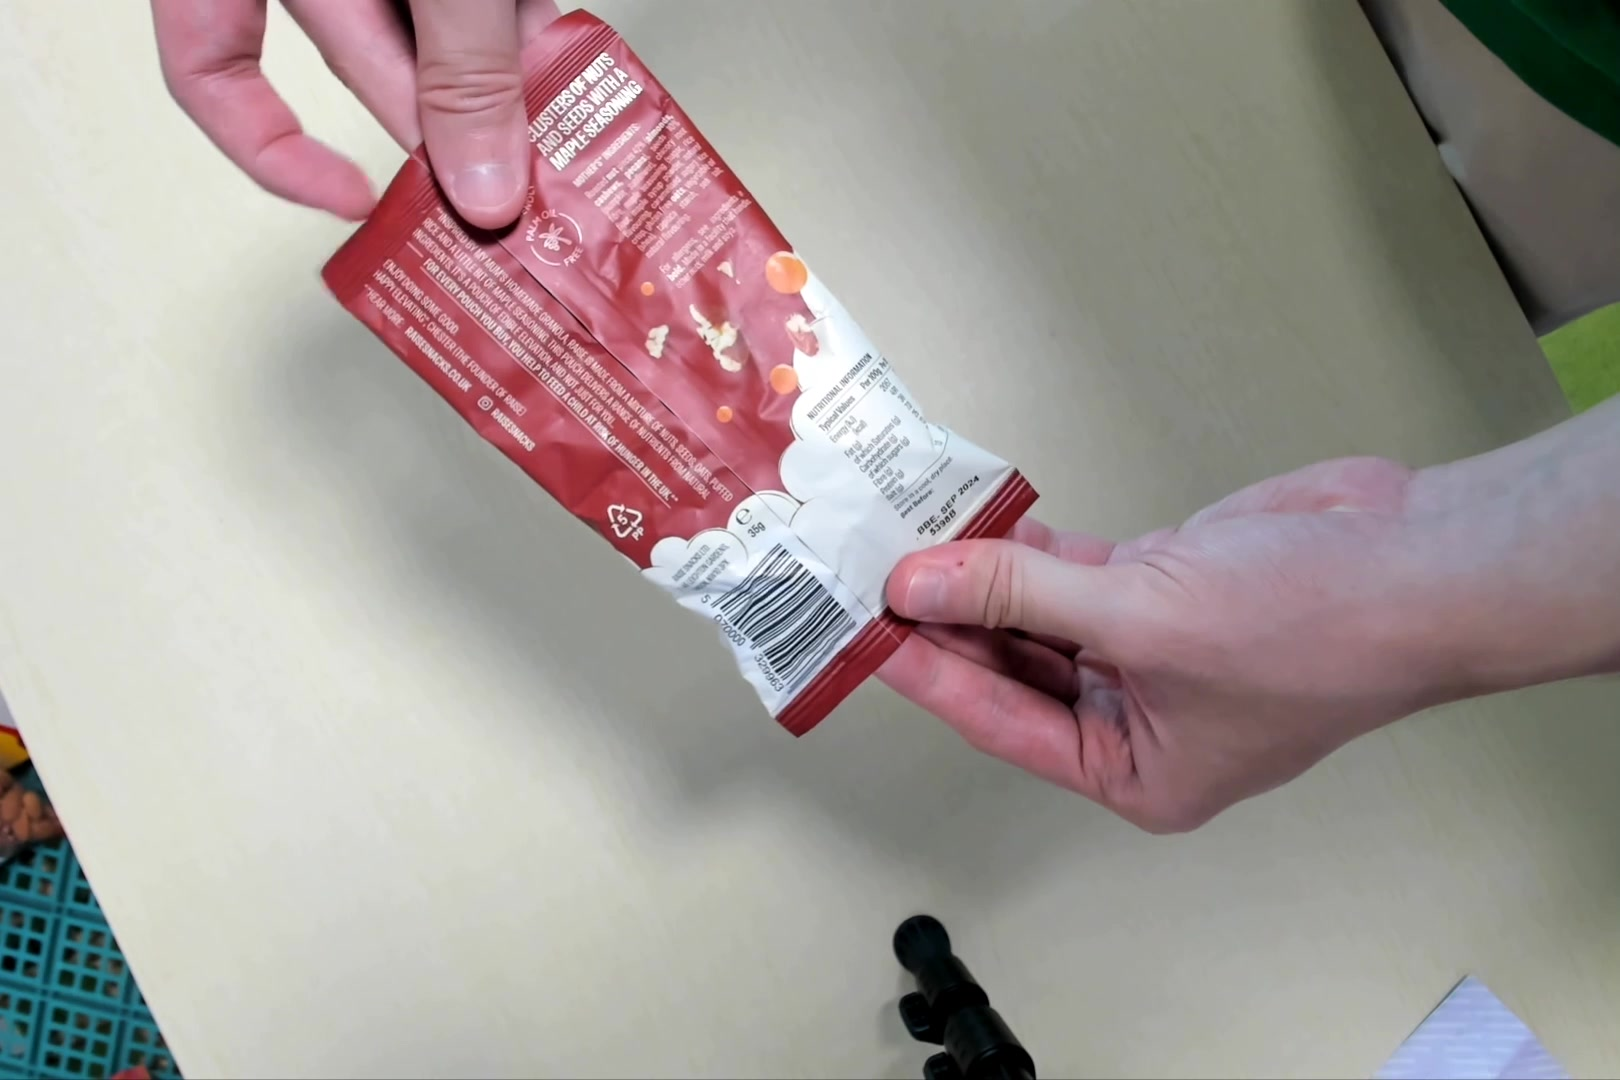Nuts_0-99g_NonHalal_NonHealthy: (315, 27, 1025, 759)
